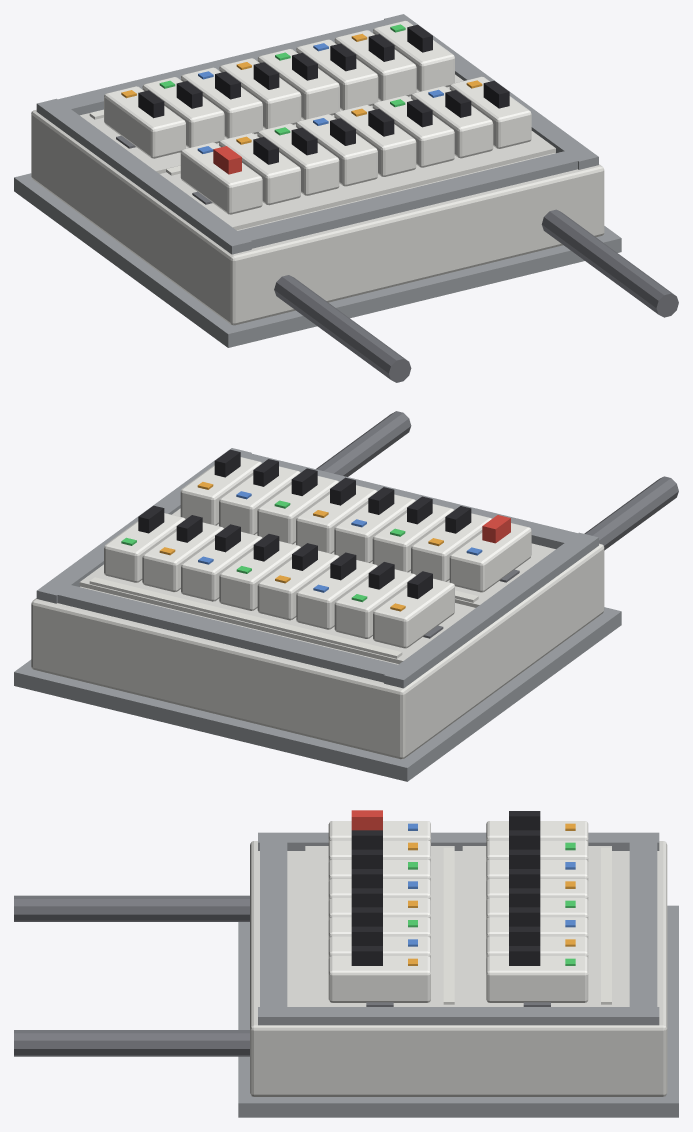
The model's file is extended_board16.obj.
The picture shows the model from 3 angles, top to bottom: view 1: azimuth 30°, elevation 25°; view 2: azimuth 150°, elevation 25°; view 3: azimuth 270°, elevation 25°; orthographic projection. The views are drawn at different scales.
Size of the model in its own units: 0.594 by 0.193 by 0.845.
Materials: 1 (1 with a texture image).
